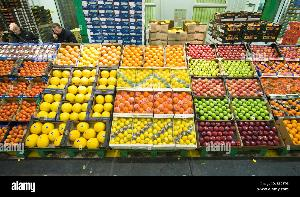apple: (198, 121, 241, 147), (239, 120, 281, 146), (232, 96, 272, 120), (196, 96, 232, 122), (192, 77, 226, 97), (228, 78, 262, 96), (188, 58, 222, 76), (186, 41, 216, 59), (222, 61, 254, 77), (248, 42, 280, 58), (218, 43, 248, 59), (280, 46, 300, 58), (273, 140, 280, 146), (219, 126, 225, 132), (203, 126, 209, 132), (212, 131, 218, 137), (221, 135, 227, 141), (204, 136, 210, 142), (199, 138, 205, 144), (268, 135, 274, 141), (275, 136, 281, 142), (238, 122, 245, 127), (244, 141, 251, 146), (250, 141, 257, 146), (256, 141, 263, 146), (268, 141, 275, 146), (230, 126, 236, 131), (225, 126, 230, 132), (214, 126, 219, 132), (209, 126, 214, 132), (199, 122, 205, 127), (198, 126, 203, 132), (201, 131, 207, 136), (217, 131, 223, 136), (223, 131, 229, 136), (228, 131, 234, 136), (227, 136, 233, 141), (210, 136, 216, 141), (202, 142, 208, 147), (209, 141, 214, 147), (236, 141, 242, 146), (243, 126, 249, 131), (255, 122, 261, 127), (249, 126, 255, 131), (247, 131, 253, 136), (242, 131, 248, 136), (246, 136, 252, 141), (258, 136, 264, 141), (262, 141, 268, 146), (269, 131, 275, 136), (272, 127, 278, 132), (265, 126, 271, 131), (261, 122, 267, 127), (259, 126, 265, 131), (254, 126, 260, 131), (253, 131, 259, 136), (258, 131, 264, 136), (264, 131, 270, 136), (226, 122, 231, 127), (221, 122, 226, 127), (216, 122, 221, 127), (211, 122, 216, 127), (205, 122, 210, 127), (207, 131, 212, 136), (216, 136, 221, 141), (231, 141, 236, 146), (250, 122, 255, 127), (241, 136, 246, 141), (253, 136, 258, 141), (264, 136, 269, 141), (260, 101, 266, 105), (264, 116, 270, 120), (260, 113, 266, 117), (258, 108, 264, 112), (248, 99, 254, 103), (225, 141, 231, 145), (226, 114, 231, 118), (215, 111, 219, 116), (210, 108, 215, 112), (202, 103, 206, 108), (194, 103, 198, 108), (200, 99, 205, 103), (255, 106, 260, 110), (245, 113, 250, 117), (238, 112, 242, 117), (241, 110, 246, 114), (241, 99, 246, 103), (214, 141, 219, 145), (238, 127, 243, 131), (245, 122, 250, 126), (202, 73, 208, 76), (238, 56, 242, 60), (242, 56, 246, 60), (234, 49, 238, 53), (231, 46, 235, 50), (220, 54, 224, 58), (188, 49, 192, 53), (186, 46, 190, 50), (202, 44, 206, 48), (205, 46, 209, 50), (207, 49, 211, 53), (200, 53, 204, 57), (200, 49, 204, 53), (196, 48, 200, 52), (240, 70, 244, 74), (241, 68, 245, 72), (246, 68, 250, 72), (241, 60, 245, 64), (237, 68, 241, 72), (235, 70, 239, 74), (231, 70, 235, 74), (233, 68, 237, 72), (237, 60, 241, 64), (226, 70, 230, 74), (228, 68, 232, 72), (228, 60, 232, 64), (224, 68, 228, 72), (224, 60, 228, 64), (212, 60, 216, 64), (215, 62, 219, 66), (214, 70, 218, 74), (198, 72, 202, 76), (194, 72, 198, 76), (211, 68, 215, 72), (206, 68, 210, 72), (204, 70, 208, 74), (202, 68, 206, 72), (200, 70, 204, 74), (207, 60, 211, 64), (193, 62, 197, 66), (190, 60, 194, 64), (220, 86, 224, 90), (221, 91, 225, 95), (218, 93, 222, 97), (214, 91, 218, 95), (217, 89, 221, 93), (216, 85, 220, 89), (215, 80, 219, 84), (212, 83, 216, 87), (213, 86, 217, 90), (200, 91, 204, 95), (193, 90, 197, 94), (196, 88, 200, 92), (199, 87, 203, 91), (202, 88, 206, 92), (206, 86, 210, 90), (209, 85, 213, 89), (208, 80, 212, 84), (205, 82, 209, 86), (202, 84, 206, 88), (198, 82, 202, 86), (201, 80, 205, 84), (204, 78, 208, 82), (198, 78, 202, 82), (194, 80, 198, 84), (191, 82, 195, 86), (195, 84, 199, 88), (192, 86, 196, 90), (258, 92, 262, 96), (250, 91, 254, 95), (256, 86, 260, 90), (255, 82, 259, 86), (253, 78, 257, 82), (251, 84, 255, 88), (249, 87, 253, 91), (243, 91, 247, 95), (246, 89, 250, 93), (241, 87, 245, 91), (239, 89, 243, 93), (236, 91, 240, 95), (231, 89, 235, 93), (237, 85, 241, 89), (244, 85, 248, 89), (247, 82, 251, 86), (250, 80, 254, 84), (238, 78, 242, 82), (236, 81, 240, 85), (228, 87, 232, 91), (226, 83, 230, 87), (231, 79, 235, 83), (213, 101, 217, 105), (216, 99, 220, 103), (221, 101, 225, 105), (223, 99, 227, 103), (225, 104, 229, 108), (227, 108, 231, 112), (224, 116, 228, 120), (223, 111, 227, 115), (219, 113, 223, 117), (216, 116, 220, 120), (212, 113, 216, 117), (219, 108, 223, 112), (222, 106, 226, 110), (217, 103, 221, 107), (214, 106, 218, 110), (207, 111, 211, 115), (204, 113, 208, 117), (200, 116, 204, 120), (199, 110, 203, 114), (203, 108, 207, 112), (207, 106, 211, 110), (210, 103, 214, 107), (205, 101, 209, 105), (199, 106, 203, 110), (195, 108, 199, 112), (198, 101, 202, 105), (194, 99, 198, 103), (264, 110, 268, 114), (258, 104, 262, 108), (256, 99, 260, 103), (256, 111, 260, 115), (258, 116, 262, 120), (253, 113, 257, 117), (250, 116, 254, 120), (242, 116, 246, 120), (244, 108, 248, 112), (247, 106, 251, 110), (250, 104, 254, 108), (252, 108, 256, 112), (248, 111, 252, 115), (246, 101, 250, 105), (243, 103, 247, 107), (240, 106, 244, 110), (236, 108, 240, 112), (234, 110, 238, 114), (238, 101, 242, 105), (235, 104, 239, 108), (232, 106, 236, 110), (232, 101, 236, 105), (234, 98, 238, 102), (267, 122, 271, 126), (291, 46, 295, 50), (294, 46, 298, 50), (264, 49, 268, 53), (256, 49, 260, 53), (252, 49, 256, 53), (220, 141, 225, 144), (241, 45, 244, 49), (242, 49, 245, 53), (231, 54, 234, 58), (210, 51, 214, 54), (195, 55, 199, 58), (190, 53, 193, 57), (195, 44, 198, 48), (191, 51, 195, 54), (247, 73, 251, 76), (243, 73, 247, 76), (238, 73, 242, 76), (234, 73, 238, 76), (229, 73, 233, 76), (243, 66, 247, 69), (244, 63, 248, 66), (240, 63, 244, 66), (234, 66, 238, 69), (235, 63, 239, 66), (231, 63, 235, 66), (222, 63, 226, 66), (212, 66, 216, 69), (212, 73, 216, 76), (207, 73, 211, 76), (208, 66, 212, 69), (209, 63, 213, 66), (197, 63, 201, 66), (195, 60, 198, 64), (188, 63, 192, 66), (207, 92, 211, 95), (234, 88, 238, 91), (240, 84, 244, 87), (243, 81, 247, 84), (296, 55, 300, 58), (292, 55, 296, 58), (255, 51, 259, 54), (225, 66, 230, 68), (246, 94, 251, 96), (195, 51, 198, 54), (195, 66, 198, 69), (238, 48, 242, 50), (238, 50, 242, 52), (236, 52, 240, 54), (235, 55, 239, 57), (234, 58, 238, 60), (230, 58, 234, 60), (226, 57, 230, 59), (228, 54, 230, 58), (232, 52, 236, 54), (236, 45, 240, 47), (230, 50, 234, 52), (229, 52, 233, 54), (226, 50, 230, 52), (228, 45, 232, 47), (224, 55, 228, 57), (222, 57, 226, 59), (223, 48, 227, 50), (225, 45, 229, 47), (221, 46, 225, 48), (220, 48, 224, 50), (218, 52, 222, 54), (206, 45, 210, 47), (212, 49, 214, 53), (212, 55, 216, 57), (199, 57, 203, 59), (188, 45, 192, 47), (192, 44, 194, 48), (200, 44, 202, 48), (206, 52, 210, 54), (208, 54, 212, 56), (204, 55, 208, 57), (196, 54, 200, 56), (194, 53, 196, 57), (190, 47, 194, 49), (194, 47, 198, 49), (202, 52, 206, 54), (198, 52, 202, 54), (249, 72, 253, 74), (244, 71, 248, 73), (246, 62, 250, 64), (238, 66, 242, 68), (229, 66, 233, 68), (232, 61, 236, 63), (227, 64, 231, 66), (216, 69, 220, 71), (210, 70, 212, 74), (198, 68, 202, 70), (196, 71, 200, 73), (206, 63, 210, 65), (204, 66, 208, 68), (204, 60, 206, 64), (200, 60, 202, 64), (191, 70, 195, 72), (218, 80, 222, 82), (220, 82, 222, 86), (210, 90, 214, 92), (210, 94, 214, 96), (203, 94, 207, 96), (197, 93, 201, 95), (192, 78, 194, 82), (254, 94, 258, 96), (253, 90, 257, 92), (240, 94, 244, 96), (233, 94, 237, 96), (245, 80, 249, 82), (230, 86, 234, 88), (230, 81, 232, 85), (226, 79, 228, 83), (209, 100, 213, 102), (262, 106, 266, 108), (253, 102, 257, 104), (286, 47, 290, 49), (290, 49, 294, 51), (286, 49, 290, 51), (282, 52, 286, 54), (286, 51, 290, 53), (296, 50, 300, 52), (296, 53, 300, 55), (289, 55, 293, 57), (294, 52, 296, 56), (285, 53, 289, 55), (285, 56, 289, 58), (250, 45, 254, 47), (254, 46, 258, 48), (264, 46, 268, 48), (270, 50, 274, 52), (264, 48, 268, 50), (260, 50, 264, 52), (260, 48, 264, 50), (250, 48, 254, 50), (252, 52, 256, 54), (262, 53, 266, 55), (266, 53, 270, 55), (272, 55, 276, 57), (262, 54, 264, 58), (242, 53, 245, 55), (192, 55, 194, 58), (188, 51, 190, 54), (192, 49, 195, 51), (248, 66, 250, 69), (202, 63, 204, 66), (200, 66, 202, 69), (230, 92, 232, 95), (234, 84, 236, 87), (240, 54, 242, 56), (236, 48, 238, 50), (234, 45, 236, 47), (228, 48, 230, 50), (226, 52, 228, 54), (222, 52, 224, 54), (223, 50, 225, 52), (220, 50, 222, 52), (218, 45, 220, 47), (218, 48, 220, 50), (210, 48, 212, 50), (212, 57, 214, 59), (208, 57, 210, 59), (204, 57, 206, 59), (198, 47, 200, 49), (202, 47, 204, 49), (204, 50, 206, 52), (192, 66, 194, 68), (194, 68, 196, 70), (190, 68, 192, 70), (281, 48, 283, 50), (284, 47, 286, 49), (294, 49, 296, 51), (284, 49, 286, 51), (290, 51, 292, 53), (294, 51, 296, 53), (290, 53, 292, 55), (258, 46, 260, 48), (262, 46, 264, 48), (268, 46, 270, 48), (268, 50, 270, 52), (268, 48, 272, 49), (258, 48, 260, 50), (254, 48, 256, 50), (260, 53, 262, 55), (270, 53, 272, 55), (274, 54, 276, 56), (270, 55, 272, 57), (266, 55, 268, 57), (260, 55, 262, 57), (272, 49, 274, 50)
lemon: (110, 116, 132, 146), (132, 115, 154, 145), (174, 117, 196, 146), (154, 118, 172, 146), (79, 44, 99, 68), (136, 66, 154, 90), (172, 68, 190, 88), (153, 68, 171, 88), (118, 67, 136, 87), (118, 133, 124, 139), (144, 138, 150, 144), (168, 134, 172, 142), (174, 126, 180, 131), (123, 136, 128, 142), (120, 122, 125, 128), (83, 46, 88, 51), (174, 82, 179, 87), (153, 129, 158, 134), (174, 131, 179, 136), (176, 121, 181, 126), (179, 124, 184, 129), (167, 118, 172, 123), (82, 58, 87, 63), (133, 128, 137, 134), (182, 120, 186, 126), (178, 128, 182, 134), (188, 134, 192, 140), (180, 139, 184, 145), (191, 130, 195, 136), (160, 134, 164, 140), (164, 137, 168, 143), (168, 130, 172, 136), (154, 122, 158, 128), (136, 136, 140, 142), (140, 134, 144, 140), (144, 131, 148, 137), (140, 118, 146, 122), (116, 136, 120, 142), (111, 138, 115, 144), (125, 141, 131, 145), (126, 134, 132, 138), (124, 131, 128, 137), (126, 129, 132, 133), (126, 120, 130, 126), (120, 118, 126, 122), (112, 128, 116, 134), (113, 122, 117, 128), (113, 117, 119, 121), (171, 78, 175, 84), (136, 78, 140, 84), (119, 78, 123, 84), (80, 52, 86, 56), (82, 54, 88, 58), (77, 63, 83, 67), (94, 52, 100, 56), (165, 69, 170, 73), (184, 123, 189, 127), (183, 136, 188, 140), (164, 132, 168, 137), (153, 140, 158, 144), (148, 132, 152, 137), (115, 126, 120, 130), (184, 72, 188, 77), (179, 84, 184, 88), (158, 70, 163, 74), (89, 47, 94, 51), (80, 57, 84, 62), (89, 59, 94, 63), (89, 54, 94, 58), (94, 56, 99, 60), (92, 49, 97, 53), (88, 63, 94, 66), (189, 120, 193, 124), (184, 127, 188, 131), (186, 140, 190, 144), (191, 138, 195, 142), (157, 138, 161, 142), (163, 121, 167, 125), (160, 124, 164, 128), (157, 126, 161, 130), (158, 121, 162, 125), (160, 118, 164, 122), (154, 119, 158, 123), (132, 140, 136, 144), (140, 140, 144, 144), (148, 129, 152, 133), (137, 126, 141, 130), (140, 123, 144, 127), (144, 121, 148, 125), (137, 121, 141, 125), (134, 124, 138, 128), (134, 118, 138, 122), (120, 140, 124, 144), (128, 118, 132, 122), (117, 120, 121, 124), (170, 70, 174, 74), (174, 71, 178, 75), (179, 72, 183, 76), (182, 70, 186, 74), (185, 77, 189, 81), (163, 76, 167, 80), (160, 74, 164, 78), (162, 71, 166, 75), (154, 69, 158, 73), (154, 78, 158, 82), (157, 81, 161, 85), (154, 84, 158, 88), (161, 84, 165, 88), (146, 72, 150, 76), (142, 74, 146, 78), (139, 76, 143, 80), (136, 74, 140, 78), (149, 79, 153, 83), (145, 82, 149, 86), (142, 84, 146, 88), (120, 68, 124, 72), (122, 71, 126, 75), (125, 73, 129, 77), (129, 71, 133, 75), (131, 74, 135, 78), (127, 76, 131, 80), (131, 78, 135, 82), (125, 84, 129, 88), (121, 82, 125, 86), (118, 83, 122, 87), (85, 49, 89, 53), (86, 61, 90, 65), (93, 62, 97, 66), (86, 57, 90, 61), (96, 48, 100, 52), (87, 52, 91, 56), (167, 72, 170, 77), (137, 70, 141, 73), (133, 70, 136, 74), (147, 119, 151, 122), (167, 78, 170, 82), (143, 70, 147, 73), (148, 84, 152, 87), (127, 70, 131, 73), (158, 142, 162, 144), (163, 142, 167, 144), (115, 142, 119, 144), (177, 70, 181, 72), (182, 76, 184, 80), (158, 72, 160, 76), (140, 72, 144, 74), (150, 70, 152, 73), (178, 76, 180, 78)
melon: (68, 119, 108, 147), (27, 120, 67, 146), (38, 90, 60, 120), (58, 102, 90, 120), (90, 90, 112, 116), (46, 70, 72, 90), (71, 68, 98, 84), (64, 85, 92, 99), (99, 68, 116, 88), (30, 122, 44, 134), (25, 134, 39, 146), (41, 123, 54, 135), (37, 134, 49, 146), (48, 128, 60, 140), (54, 134, 66, 146), (74, 136, 86, 148), (76, 122, 89, 133), (85, 137, 98, 148), (40, 102, 52, 112), (84, 128, 96, 138), (94, 122, 106, 132), (72, 103, 82, 113), (51, 101, 61, 111), (70, 130, 80, 140), (97, 132, 107, 142), (59, 122, 67, 134), (61, 104, 72, 112), (82, 69, 91, 78), (96, 95, 105, 104), (52, 70, 62, 78), (100, 70, 110, 78), (50, 77, 60, 85), (66, 93, 76, 101), (68, 86, 78, 94), (44, 94, 54, 102), (60, 112, 70, 120), (81, 102, 89, 112), (94, 104, 104, 112), (78, 86, 87, 94), (80, 76, 89, 84), (108, 77, 117, 85), (38, 112, 49, 118), (62, 70, 70, 78), (74, 70, 82, 78), (76, 93, 84, 101), (70, 112, 78, 120), (78, 112, 86, 120), (105, 95, 113, 103), (47, 84, 57, 90), (71, 78, 81, 84), (98, 78, 108, 84), (47, 112, 57, 118), (53, 94, 61, 101), (57, 84, 66, 90), (60, 78, 68, 84), (90, 76, 96, 84), (98, 84, 106, 90), (106, 84, 114, 90), (85, 92, 91, 100), (104, 104, 112, 110), (102, 111, 110, 117), (92, 112, 100, 118), (92, 70, 98, 76), (110, 70, 116, 76), (88, 86, 94, 92)
orange: (260, 75, 300, 95), (266, 94, 300, 117), (254, 62, 300, 76), (56, 42, 78, 68), (113, 88, 134, 114), (173, 91, 193, 117), (164, 45, 186, 68), (122, 44, 144, 66), (134, 91, 153, 115), (284, 116, 300, 144), (145, 45, 165, 67), (154, 90, 172, 114), (102, 44, 120, 66), (59, 47, 66, 53), (120, 91, 127, 97), (173, 97, 179, 104), (177, 94, 183, 100), (174, 104, 180, 110), (183, 103, 189, 109), (187, 107, 193, 113), (154, 94, 160, 100), (157, 92, 163, 98), (158, 104, 164, 110), (147, 95, 153, 101), (143, 98, 149, 104), (138, 100, 144, 106), (142, 104, 148, 110), (128, 97, 134, 103), (123, 106, 129, 112), (120, 98, 126, 104), (116, 94, 122, 100), (115, 100, 121, 106), (118, 103, 124, 109), (182, 111, 190, 115), (146, 108, 154, 112), (106, 47, 112, 52), (270, 100, 276, 105), (183, 98, 188, 104), (158, 97, 163, 103), (154, 109, 160, 114), (167, 98, 172, 104), (134, 104, 140, 109), (126, 94, 131, 100), (102, 58, 108, 63), (124, 60, 129, 65), (148, 103, 153, 108), (292, 120, 298, 124), (278, 105, 284, 109), (282, 101, 288, 105), (286, 124, 292, 128), (289, 130, 295, 134), (292, 128, 298, 132), (294, 134, 300, 138), (292, 138, 298, 142), (289, 134, 293, 140), (178, 101, 182, 107), (188, 100, 192, 106), (186, 96, 192, 100), (154, 102, 160, 106), (164, 107, 168, 113), (168, 104, 172, 110), (143, 92, 149, 96), (138, 108, 144, 112), (134, 98, 140, 102), (124, 102, 130, 106), (128, 106, 134, 110), (114, 108, 120, 112), (131, 46, 135, 52), (122, 57, 128, 61), (116, 46, 122, 50), (112, 49, 118, 53), (98, 62, 104, 66), (103, 54, 109, 58), (106, 56, 112, 60), (66, 46, 72, 50), (68, 49, 74, 53), (58, 54, 64, 58), (56, 60, 62, 64), (148, 50, 153, 54), (166, 48, 170, 53), (173, 93, 178, 97), (167, 92, 172, 96), (163, 96, 168, 100), (163, 102, 168, 106), (168, 61, 173, 65), (175, 57, 179, 62), (153, 61, 157, 66), (150, 58, 154, 63), (138, 61, 142, 66), (102, 50, 107, 54), (115, 55, 120, 59), (112, 53, 117, 57), (112, 58, 117, 62), (107, 61, 112, 65), (100, 57, 105, 61), (74, 46, 79, 50), (167, 111, 173, 114), (142, 111, 148, 114), (296, 69, 300, 73), (284, 64, 288, 68), (277, 64, 281, 68), (274, 68, 278, 72), (265, 63, 269, 67), (274, 110, 278, 114), (279, 112, 283, 116), (288, 100, 292, 104), (296, 104, 300, 108), (292, 109, 296, 113), (292, 123, 296, 127), (284, 120, 288, 124), (296, 127, 300, 131), (296, 122, 300, 126), (265, 80, 269, 84), (294, 88, 298, 92), (180, 108, 184, 112), (181, 92, 185, 96), (136, 92, 140, 96), (140, 95, 144, 99), (130, 92, 134, 96), (172, 48, 176, 52), (177, 48, 181, 52), (175, 50, 179, 54), (172, 54, 176, 58), (166, 53, 170, 57), (169, 56, 173, 60), (166, 58, 170, 62), (172, 58, 176, 62), (177, 53, 181, 57), (180, 56, 184, 60), (180, 51, 184, 55), (181, 62, 185, 66), (178, 59, 182, 63), (175, 61, 179, 65), (172, 64, 176, 68), (166, 63, 170, 67), (152, 48, 156, 52), (159, 51, 163, 55), (156, 54, 160, 58), (152, 52, 156, 56), (154, 56, 158, 60), (156, 59, 160, 63), (159, 61, 163, 65), (148, 55, 152, 59), (145, 52, 149, 56), (146, 48, 150, 52), (145, 57, 149, 61), (147, 60, 151, 64), (144, 63, 148, 67), (136, 48, 140, 52), (139, 51, 143, 55), (136, 53, 140, 57), (138, 56, 142, 60), (135, 58, 139, 62), (131, 61, 135, 65), (128, 58, 132, 62), (132, 56, 136, 60), (130, 52, 134, 56), (134, 50, 138, 54), (128, 50, 132, 54), (125, 47, 129, 51), (123, 52, 127, 56), (126, 55, 130, 59), (112, 45, 116, 49), (102, 46, 106, 50), (108, 51, 112, 55), (117, 51, 121, 55), (115, 60, 119, 64), (76, 49, 80, 53), (74, 53, 78, 57), (70, 55, 74, 59), (72, 58, 76, 62), (69, 60, 73, 64), (66, 58, 70, 62), (61, 56, 65, 60), (64, 51, 68, 55), (66, 53, 70, 57), (62, 60, 66, 64), (133, 63, 138, 66), (266, 68, 270, 71), (293, 66, 297, 69), (268, 66, 272, 69), (269, 70, 273, 73), (258, 63, 262, 66), (257, 70, 261, 73), (274, 103, 278, 106), (292, 103, 296, 106), (283, 109, 287, 112), (288, 111, 292, 114), (262, 81, 266, 84), (290, 88, 294, 91), (134, 111, 140, 113), (128, 111, 132, 114), (169, 51, 172, 55), (177, 63, 181, 66), (155, 63, 159, 66), (128, 63, 132, 66), (71, 51, 75, 54), (267, 92, 270, 95), (289, 64, 293, 66), (296, 63, 300, 65), (293, 71, 297, 73), (284, 69, 288, 71), (280, 64, 284, 66), (292, 67, 296, 69), (281, 67, 285, 69), (262, 67, 266, 69), (276, 115, 280, 117), (296, 112, 300, 114), (262, 78, 264, 82), (293, 86, 297, 88), (291, 90, 295, 92), (278, 78, 280, 82), (160, 112, 164, 114), (169, 65, 173, 67), (158, 48, 162, 50), (156, 50, 158, 54), (122, 64, 126, 66), (290, 66, 292, 69), (276, 62, 278, 65), (272, 66, 274, 69), (264, 70, 266, 73), (280, 63, 282, 65), (280, 69, 282, 71), (276, 68, 278, 70), (274, 64, 276, 66), (256, 63, 258, 65), (266, 90, 268, 92), (274, 80, 276, 82)
tomato: (0, 42, 54, 60), (0, 98, 39, 120), (0, 122, 28, 146), (16, 58, 50, 74), (1, 79, 30, 97), (28, 80, 46, 98), (0, 58, 12, 78), (1, 132, 6, 140), (11, 133, 17, 138), (11, 136, 16, 142), (14, 104, 19, 109), (51, 45, 57, 49), (28, 64, 34, 68), (4, 139, 10, 143), (3, 142, 9, 146), (14, 138, 20, 142), (2, 127, 8, 131), (26, 103, 31, 107), (30, 92, 35, 96), (1, 69, 6, 73), (1, 66, 6, 70), (22, 106, 27, 110), (6, 111, 11, 115), (19, 130, 24, 134), (18, 67, 24, 70), (0, 72, 6, 75), (42, 62, 48, 65), (32, 62, 38, 65), (4, 63, 10, 66), (24, 64, 28, 68), (34, 64, 38, 68), (39, 64, 43, 68), (30, 67, 34, 71), (26, 70, 30, 74), (31, 70, 35, 74), (36, 70, 40, 74), (41, 70, 45, 74), (27, 73, 31, 77), (22, 72, 26, 76), (16, 72, 20, 76), (4, 60, 8, 64), (5, 66, 9, 70), (6, 69, 10, 73), (10, 64, 14, 68), (9, 60, 13, 64), (22, 88, 26, 92), (23, 84, 27, 88), (18, 84, 22, 88), (9, 92, 13, 96), (14, 86, 18, 90), (32, 88, 36, 92), (35, 90, 39, 94), (35, 92, 39, 96), (4, 86, 8, 90), (5, 88, 9, 92), (2, 84, 6, 88), (17, 112, 21, 116), (19, 113, 23, 117), (6, 106, 10, 110), (8, 116, 12, 120), (18, 126, 22, 130), (10, 131, 14, 135), (10, 141, 14, 145), (18, 134, 22, 138), (0, 129, 4, 133), (16, 91, 21, 94), (20, 70, 25, 73), (11, 104, 16, 107), (38, 62, 42, 65), (28, 62, 32, 65), (23, 62, 27, 65), (24, 68, 30, 70), (37, 73, 41, 76), (32, 73, 36, 76), (1, 60, 4, 64), (22, 81, 26, 84), (18, 88, 22, 91), (34, 86, 40, 88), (7, 85, 10, 89), (3, 90, 6, 94), (1, 88, 4, 92), (4, 84, 8, 87), (25, 109, 29, 112), (30, 106, 36, 108), (32, 109, 36, 112), (26, 112, 30, 115), (20, 111, 24, 114), (16, 117, 20, 120), (22, 114, 26, 117), (12, 103, 16, 106), (10, 109, 14, 112), (2, 106, 8, 108), (7, 103, 11, 106), (4, 114, 8, 117), (23, 125, 26, 129), (12, 126, 16, 129), (1, 114, 6, 116), (1, 63, 4, 66), (44, 64, 46, 68), (40, 68, 44, 70), (35, 68, 39, 70), (14, 90, 18, 92), (11, 90, 15, 92), (12, 93, 16, 95), (14, 94, 18, 96), (12, 86, 14, 90), (16, 84, 20, 86), (26, 90, 30, 92), (26, 93, 30, 95), (36, 82, 38, 86), (39, 89, 43, 91), (28, 110, 32, 112), (23, 112, 27, 114), (22, 118, 26, 120), (18, 118, 22, 120), (27, 115, 31, 117), (30, 112, 34, 114), (23, 102, 27, 104), (4, 110, 8, 112), (0, 109, 2, 113), (15, 130, 19, 132), (7, 136, 11, 138), (4, 130, 8, 132), (18, 82, 21, 84), (39, 91, 42, 93), (20, 82, 22, 84), (42, 86, 44, 88), (42, 83, 44, 85), (2, 83, 4, 85), (6, 80, 8, 82)
